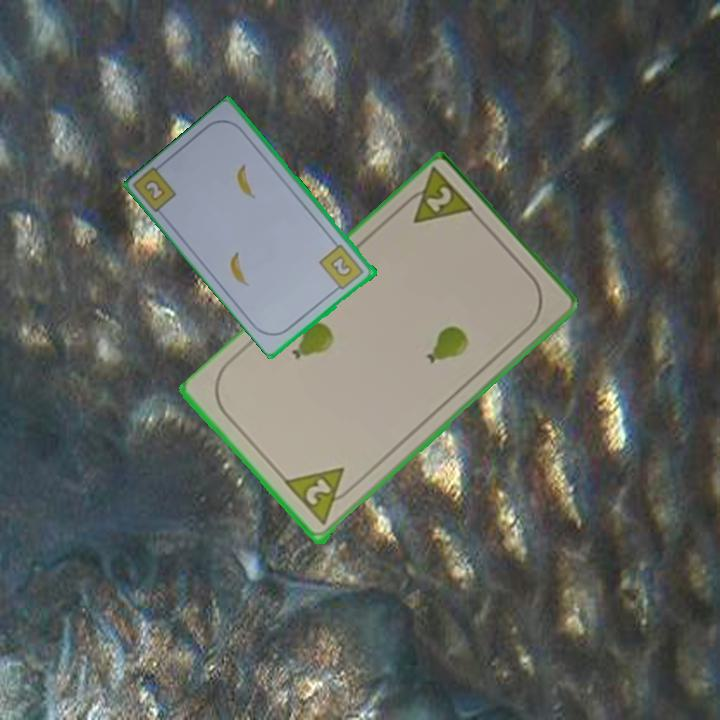2b: (316, 241, 367, 295), (143, 178, 166, 202)
2p: (395, 166, 479, 228), (301, 475, 334, 509)
